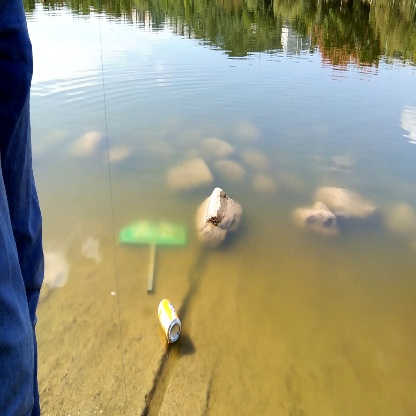bottle: (152, 293, 187, 346)
